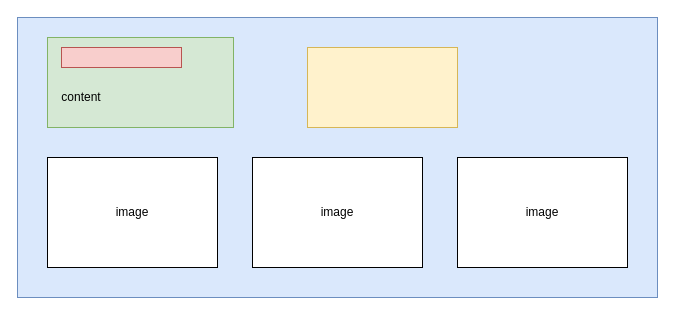
The diagram is 675 pixels wide and 315 high, and some of its shapes have lost their labels. Here are the shapes that lost their labels. From the top down, the centre of each, then its label:
At point 121,57: "header".
At point 382,87: "article".
